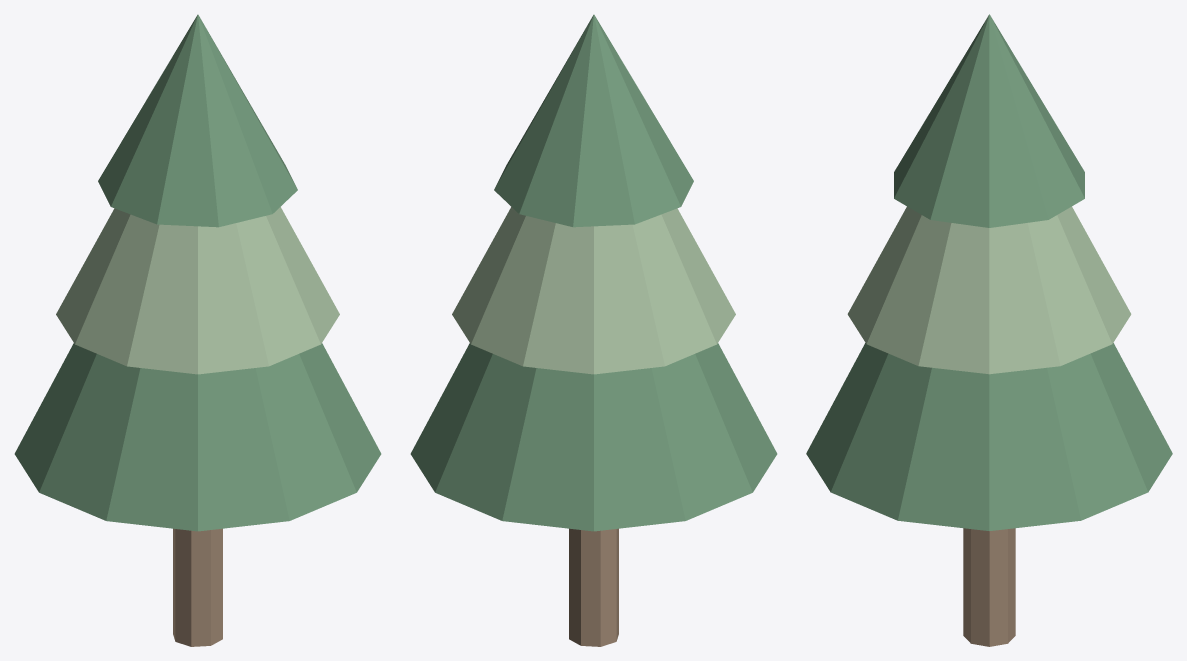
File: tree_pine.glb
3 views of the same model, side by side, from view 1: azimuth 30°, elevation 25°; view 2: azimuth 150°, elevation 25°; view 3: azimuth 270°, elevation 25° (orthographic).
Parts seen in each view (by area): view 1: p001, p002, p003, p000; view 2: p001, p002, p003, p000; view 3: p001, p002, p003, p000.
Boxes of the visible parts, <box> form: p001: <box>14,343,381,531</box>; p002: <box>56,207,339,374</box>; p003: <box>98,14,297,227</box>; p000: <box>173,528,222,646</box>; p001: <box>410,343,777,531</box>; p002: <box>452,207,735,374</box>; p003: <box>494,14,693,227</box>; p000: <box>569,528,618,646</box>; p001: <box>806,343,1172,530</box>; p002: <box>847,206,1131,374</box>; p003: <box>894,14,1084,227</box>; p000: <box>963,528,1015,646</box>.
Size of the model in its own units: 3.1 by 5.8 by 3.1.
